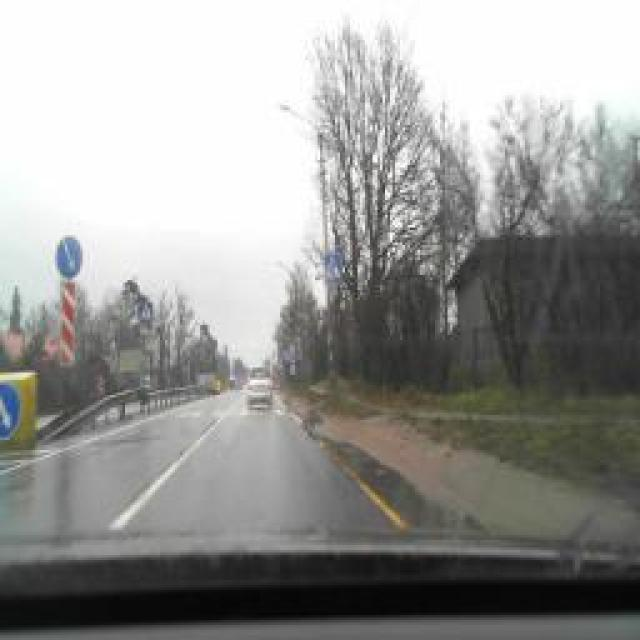sign: (0, 379, 22, 442), (55, 235, 83, 280)
